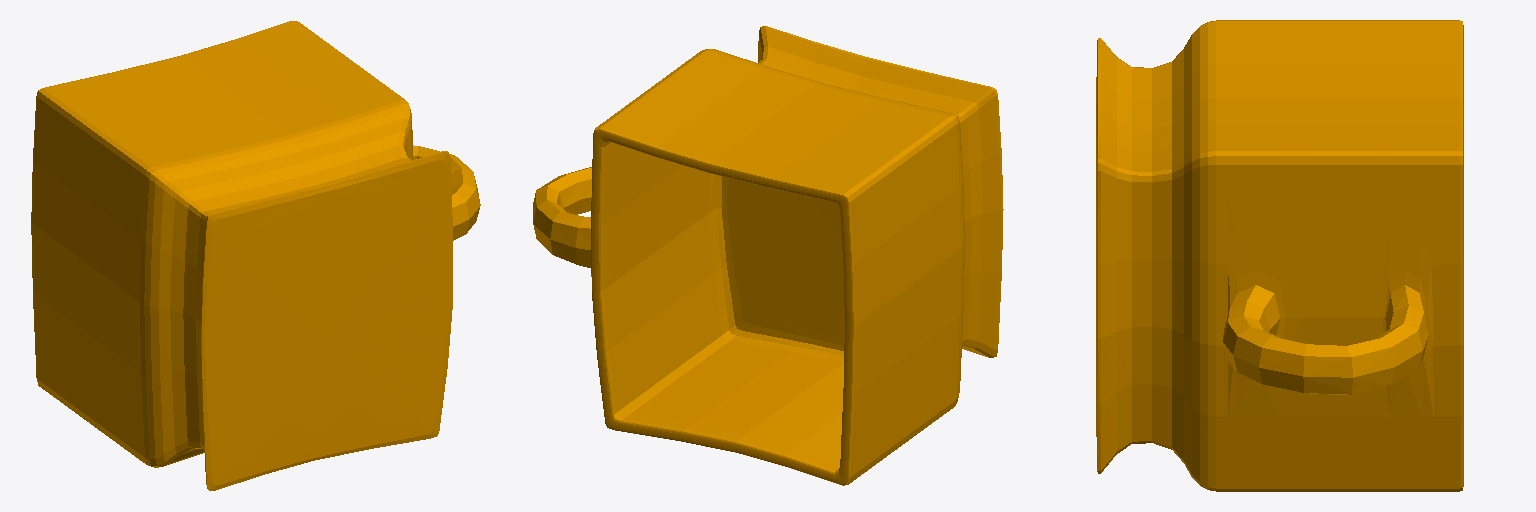
The robot description file, URDF, robot "132":
<?xml version="1.0" ?>
<robot name="132">
  <link name="body">
    <visual>
      <geometry>
        <mesh filename="../shapes/132.obj"/>
      </geometry>
    </visual>
    <collision>
      <geometry>
        <mesh filename="../shapes/132.obj"/>
      </geometry>
    </collision>
  </link>
</robot>

--- What the picture shows (computed from the rendered views, not written in the file) ---
Views: 3 orthographic renders of the robot side by side, from view 1: azimuth 30°, elevation 25°; view 2: azimuth 150°, elevation 25°; view 3: azimuth 270°, elevation 25°.
Robot: 132 — 1 links, 0 joints (none); root link body; default pose: all joints at 0.
Visible links, largest first — view 1: body; view 2: body; view 3: body.
Boxes of the visible links, x1=… form: body: x1=31, y1=21, x2=480, y2=490; body: x1=533, y1=26, x2=1003, y2=485; body: x1=1096, y1=20, x2=1463, y2=491.
Size in the robot's own frame: 3.38 by 2.51 by 2.61 metres.
1 mesh visuals loaded from 1 distinct referenced files (1 OBJ).